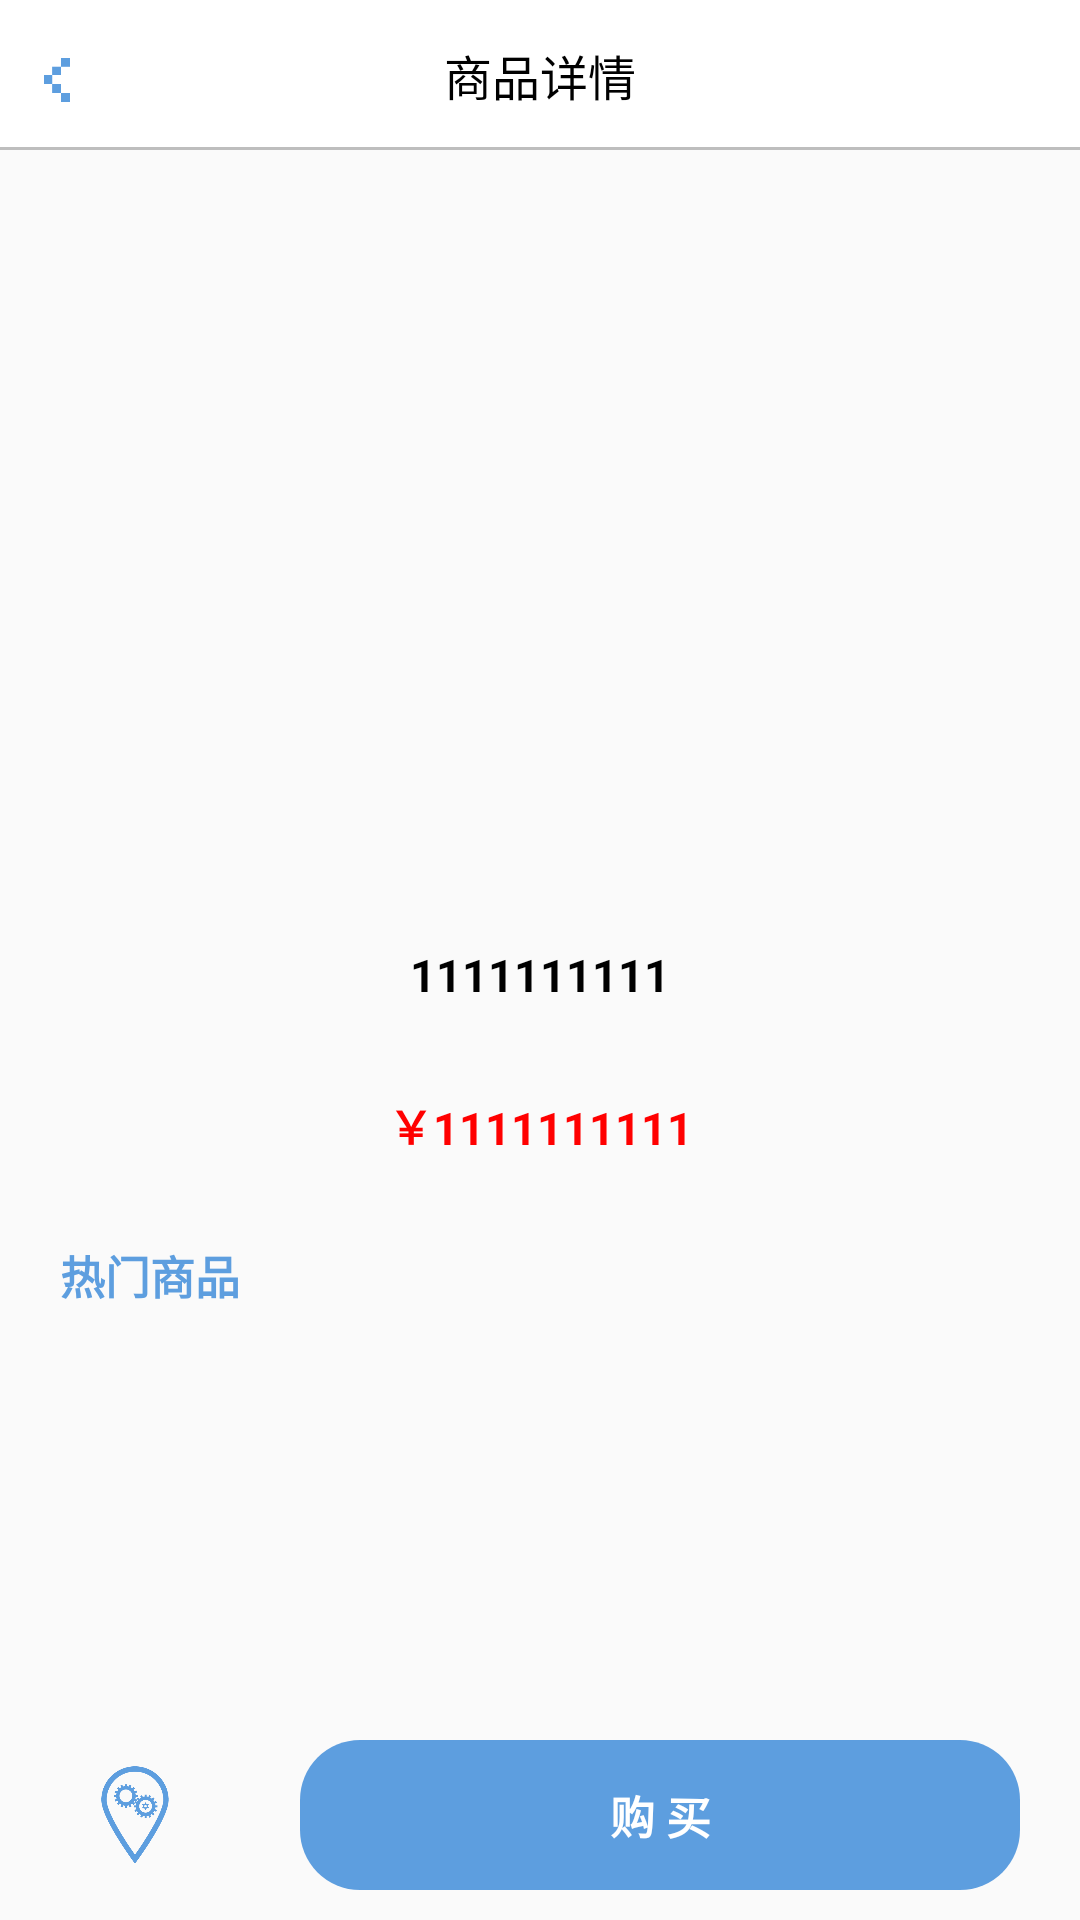

Icon bounding boxes for this 1080×1920 phone screenshot, format (x1, y1, x2, y2):
back: (44, 58, 70, 102)
location: (101, 1766, 169, 1863)
